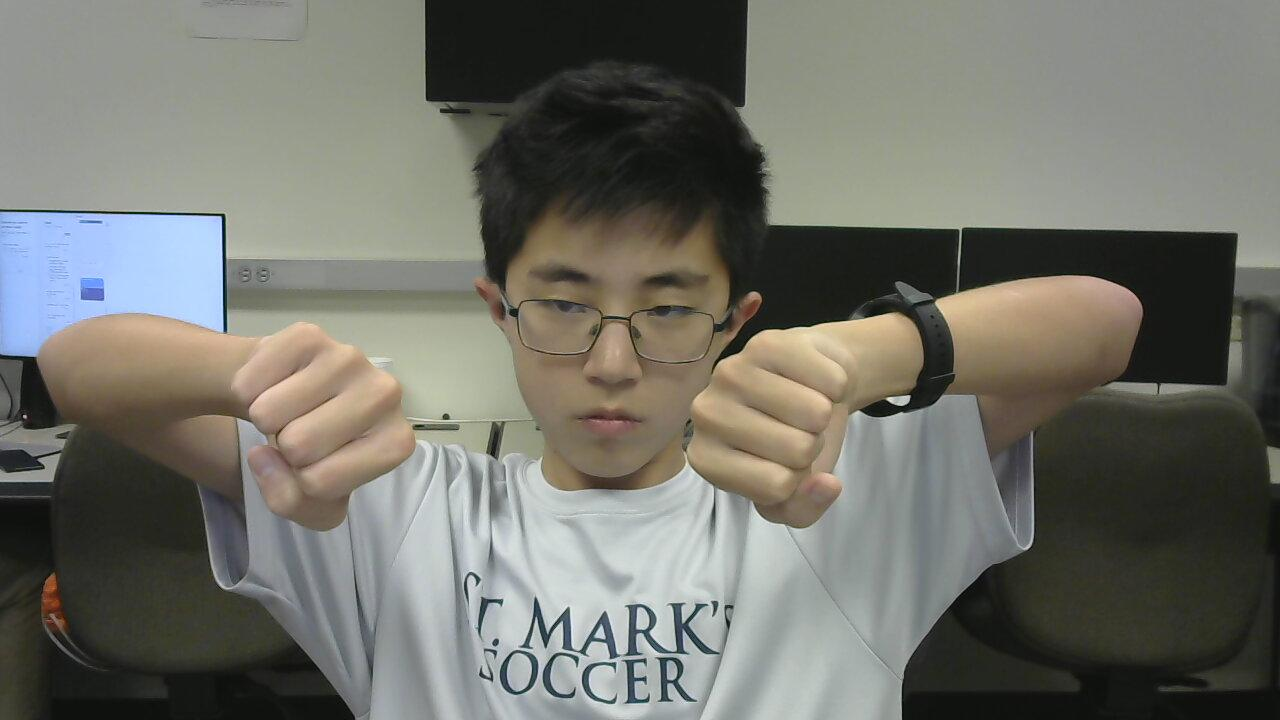fist: (236, 322, 419, 541), (666, 322, 857, 521)
